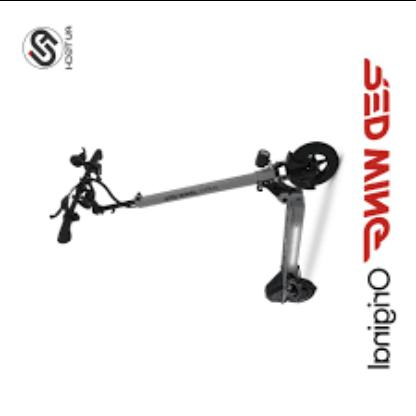bike: (48, 141, 339, 306), (49, 148, 140, 245)
